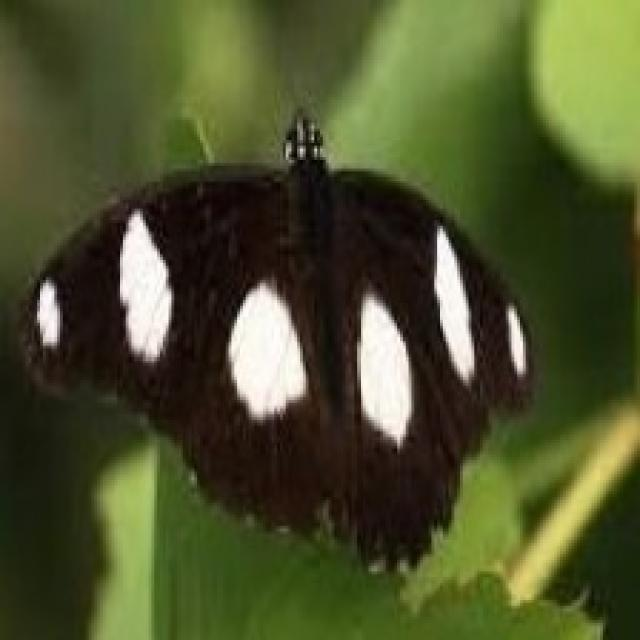butterfly: (17, 74, 534, 577)
